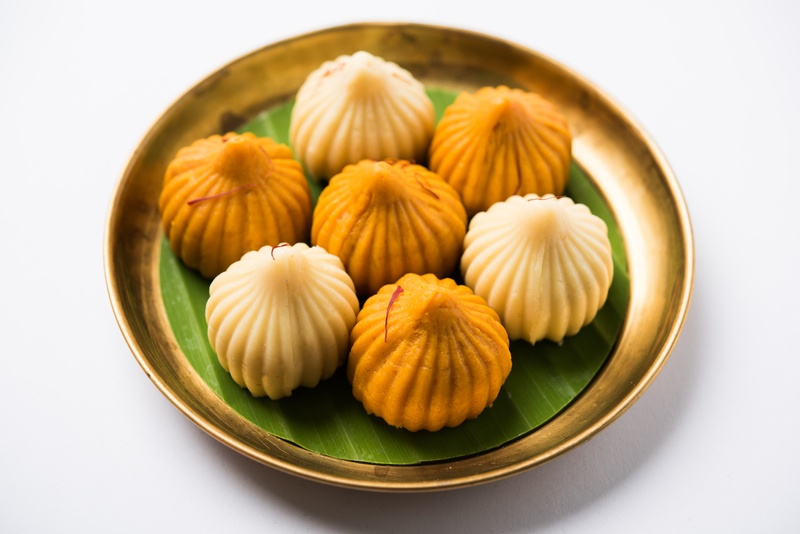modak: (471, 182, 644, 349), (362, 264, 514, 433), (147, 129, 328, 270), (204, 245, 354, 388), (272, 38, 437, 164), (304, 164, 471, 287), (433, 89, 580, 215)
